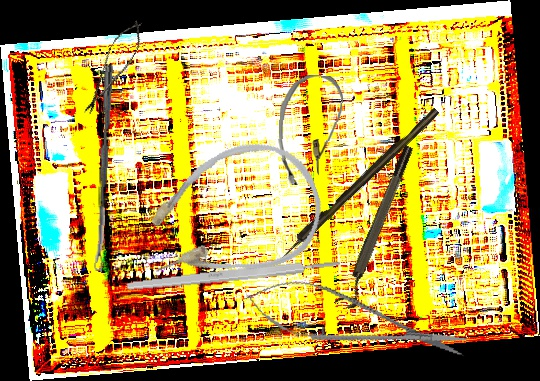Cannula: (126, 126, 336, 303), (276, 73, 344, 188)
Fixation Ring: (334, 143, 423, 312)
Hook Surgical: (274, 106, 441, 264)
Micro Scissor: (238, 267, 475, 377), (76, 13, 151, 122)
Scalpel Handle: (125, 257, 342, 293)
Surgical Spoon: (93, 63, 113, 272)
